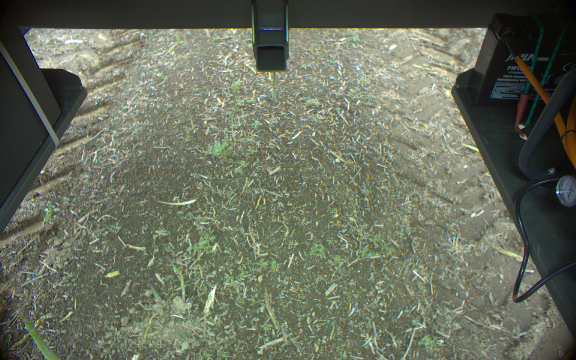aspa: (17, 305, 66, 360), (263, 70, 282, 103)
